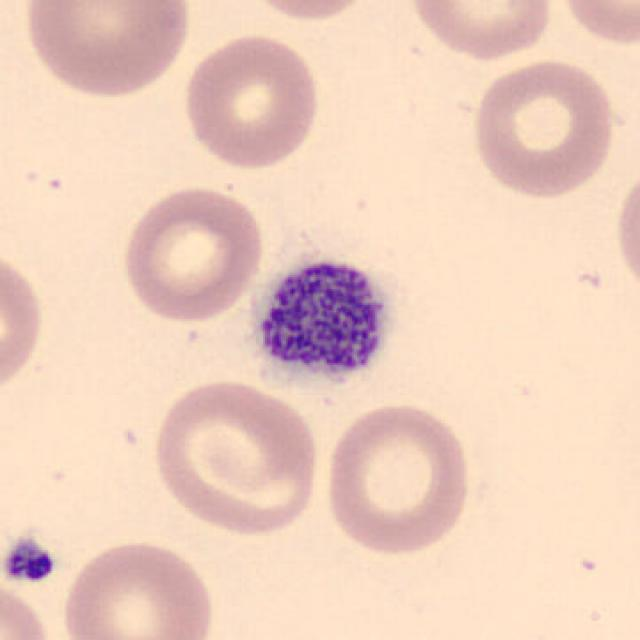Platelets: (238, 245, 402, 402), (2, 534, 60, 587)
RBC: (146, 374, 324, 539), (320, 397, 476, 559), (468, 54, 618, 202), (118, 182, 268, 326), (178, 28, 324, 173), (19, 0, 197, 100), (57, 534, 219, 640), (406, 0, 556, 62), (0, 243, 48, 402), (552, 0, 638, 49), (611, 162, 640, 299), (236, 0, 382, 25), (0, 576, 57, 640)
